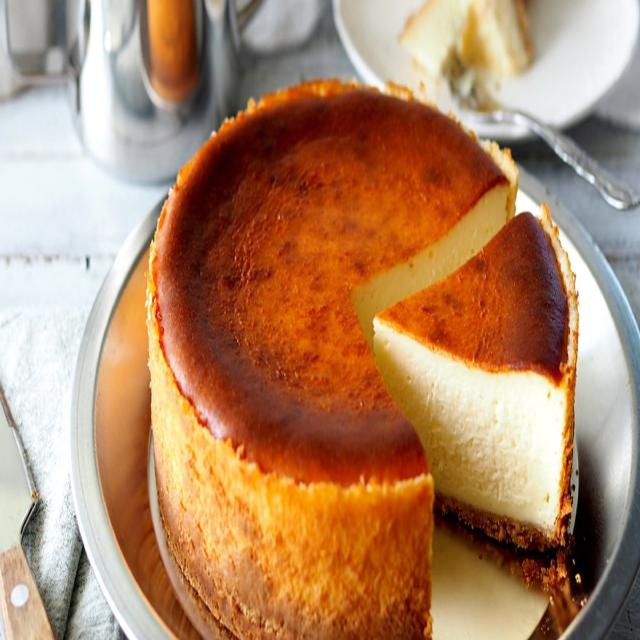cheesecake: (141, 76, 584, 640)
